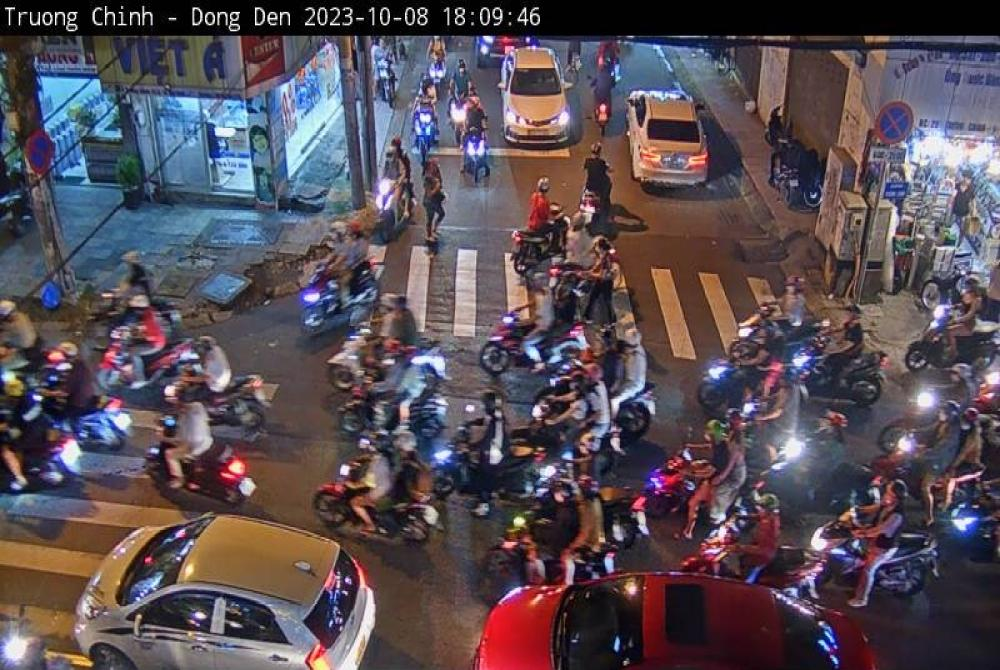car: (75, 513, 379, 670), (469, 569, 887, 670), (625, 85, 710, 189), (500, 45, 572, 147)
